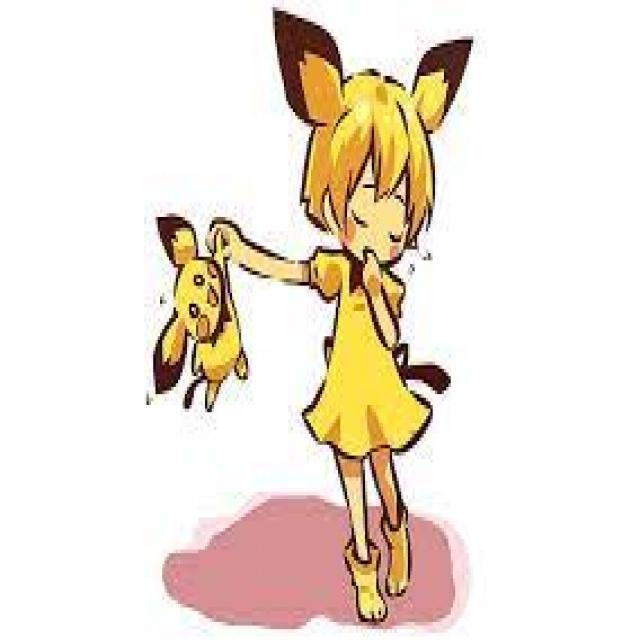pichu: (142, 186, 257, 406)
